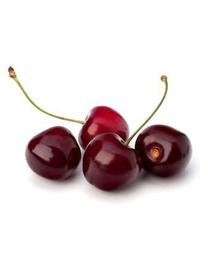cherry: (82, 132, 141, 193), (137, 124, 193, 180), (25, 126, 81, 182), (78, 106, 129, 155)
